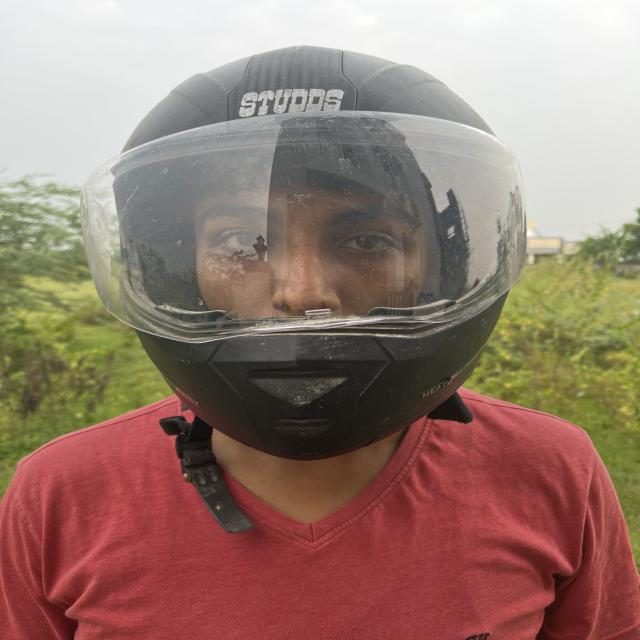Helmet: (82, 48, 525, 460)
